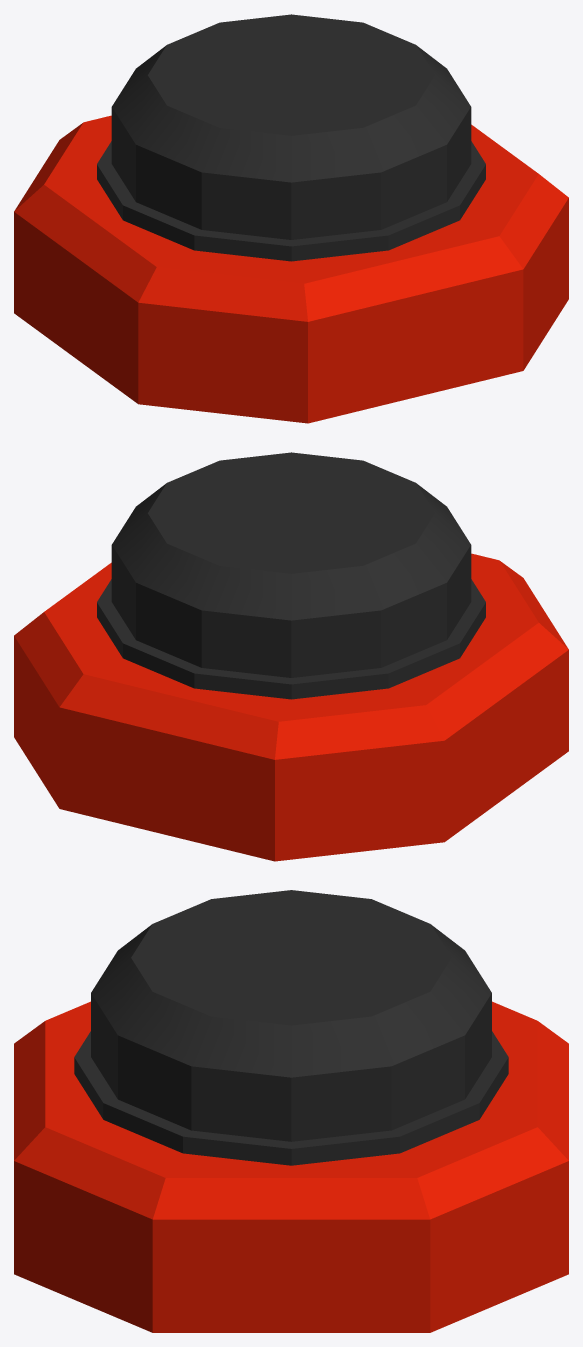
File: Big_button.fbx
3 renders of one model, top to bottom at view 1: azimuth 30°, elevation 25°; view 2: azimuth 150°, elevation 25°; view 3: azimuth 270°, elevation 25°, orthographic. The views are drawn at different scales.
Visible parts, largest first — view 1: Big_Button; view 2: Big_Button; view 3: Big_Button.
Part boxes in pixels (<box>): Big_Button: <box>14,14,568,423</box>; Big_Button: <box>14,452,568,861</box>; Big_Button: <box>14,890,568,1332</box>.
Bounding box in the file's own units: 0.1126 × 0.0577 × 0.1126.
